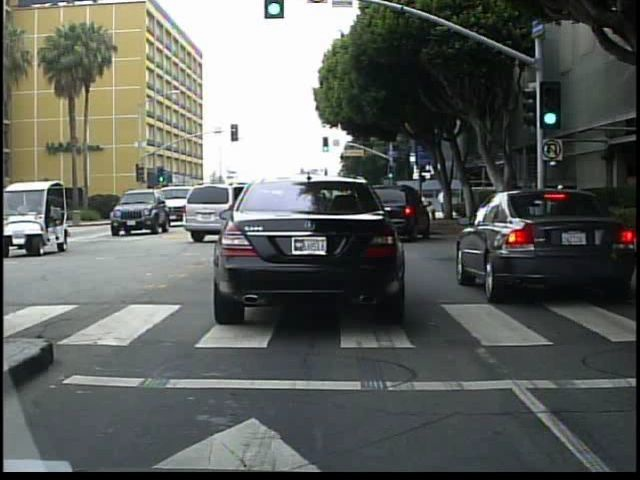person: (533, 174, 553, 231), (434, 186, 448, 217)
